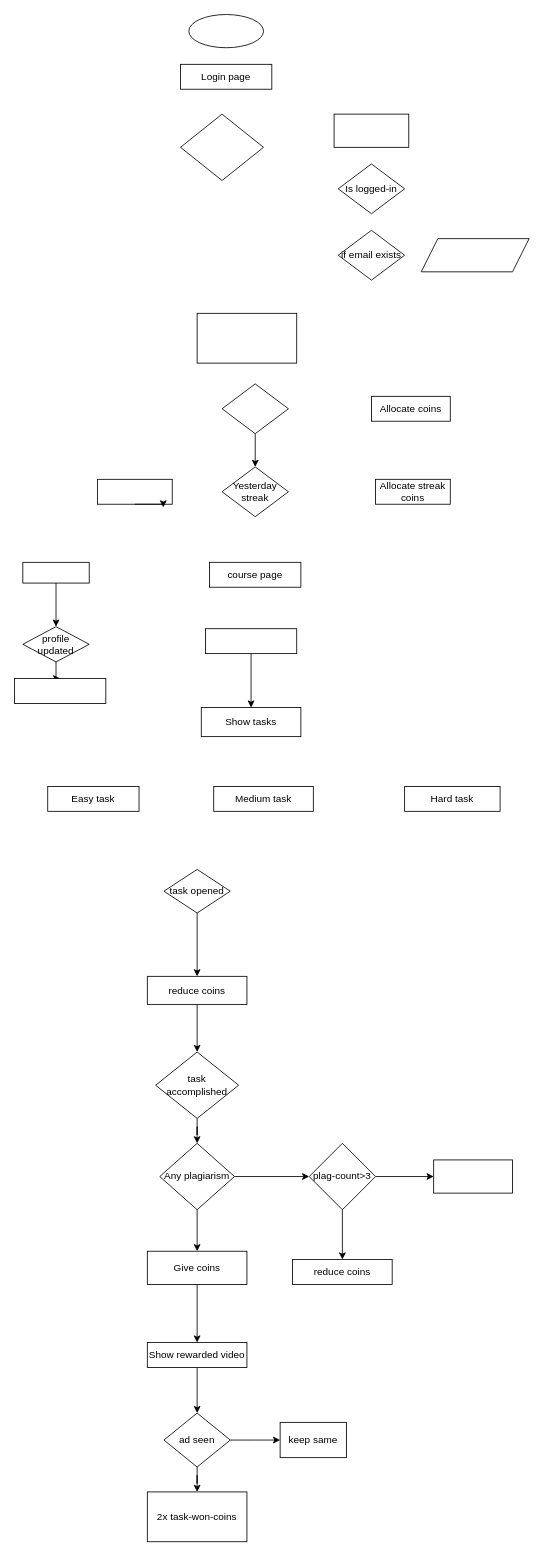
Some shapes in this 544 by 1556 pixel diagram are drawn without their labels. Each missing label, with the box of its shape:
Add coins: (14, 678, 106, 703)
Alert to add mail in account: (420, 238, 529, 272)
Block account: (433, 1159, 513, 1193)
Enrolled course: (205, 628, 297, 654)
Home page: (196, 312, 297, 363)
Login with Holoworld: (180, 113, 264, 181)
New user?: (221, 383, 288, 434)
No coins: (97, 478, 172, 504)
Profile page: (22, 561, 89, 583)
Social-media-login-page: (333, 113, 409, 147)
Start: (188, 14, 264, 48)
